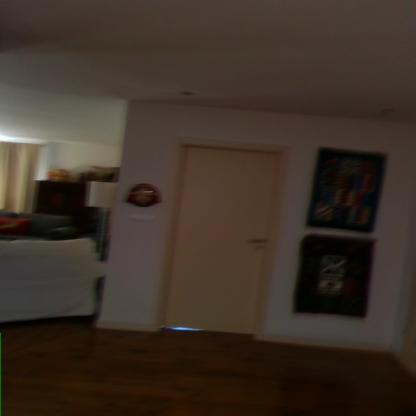closed: (167, 136, 292, 338)
